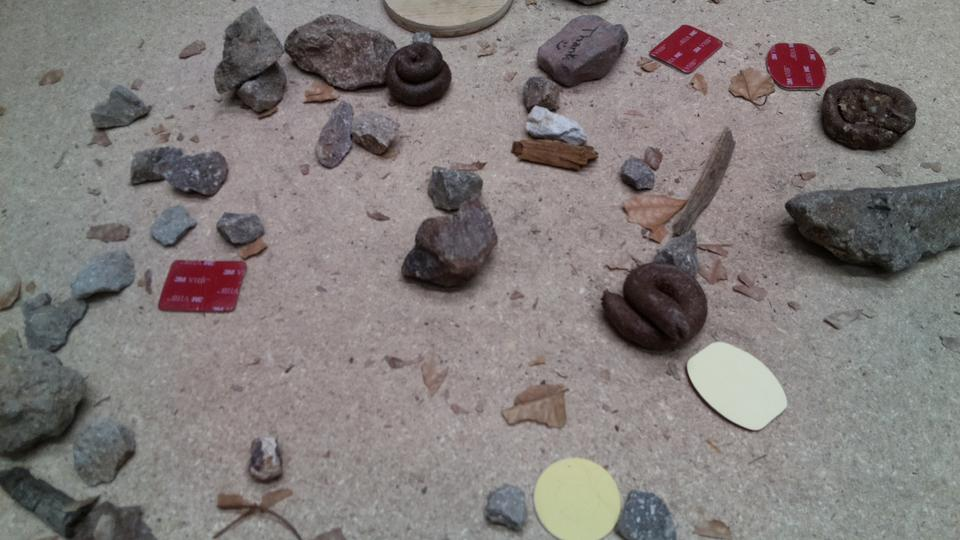poop: (599, 261, 710, 354), (819, 75, 919, 153), (382, 40, 454, 108)
